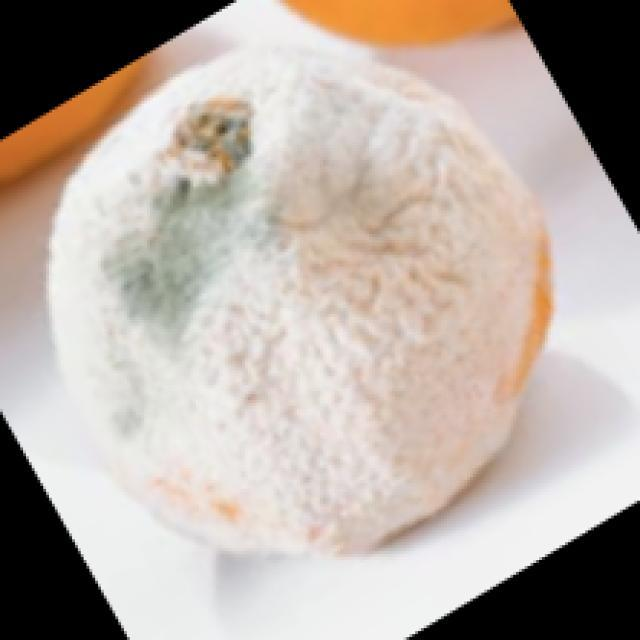sangat-busuk: (49, 42, 550, 554)
